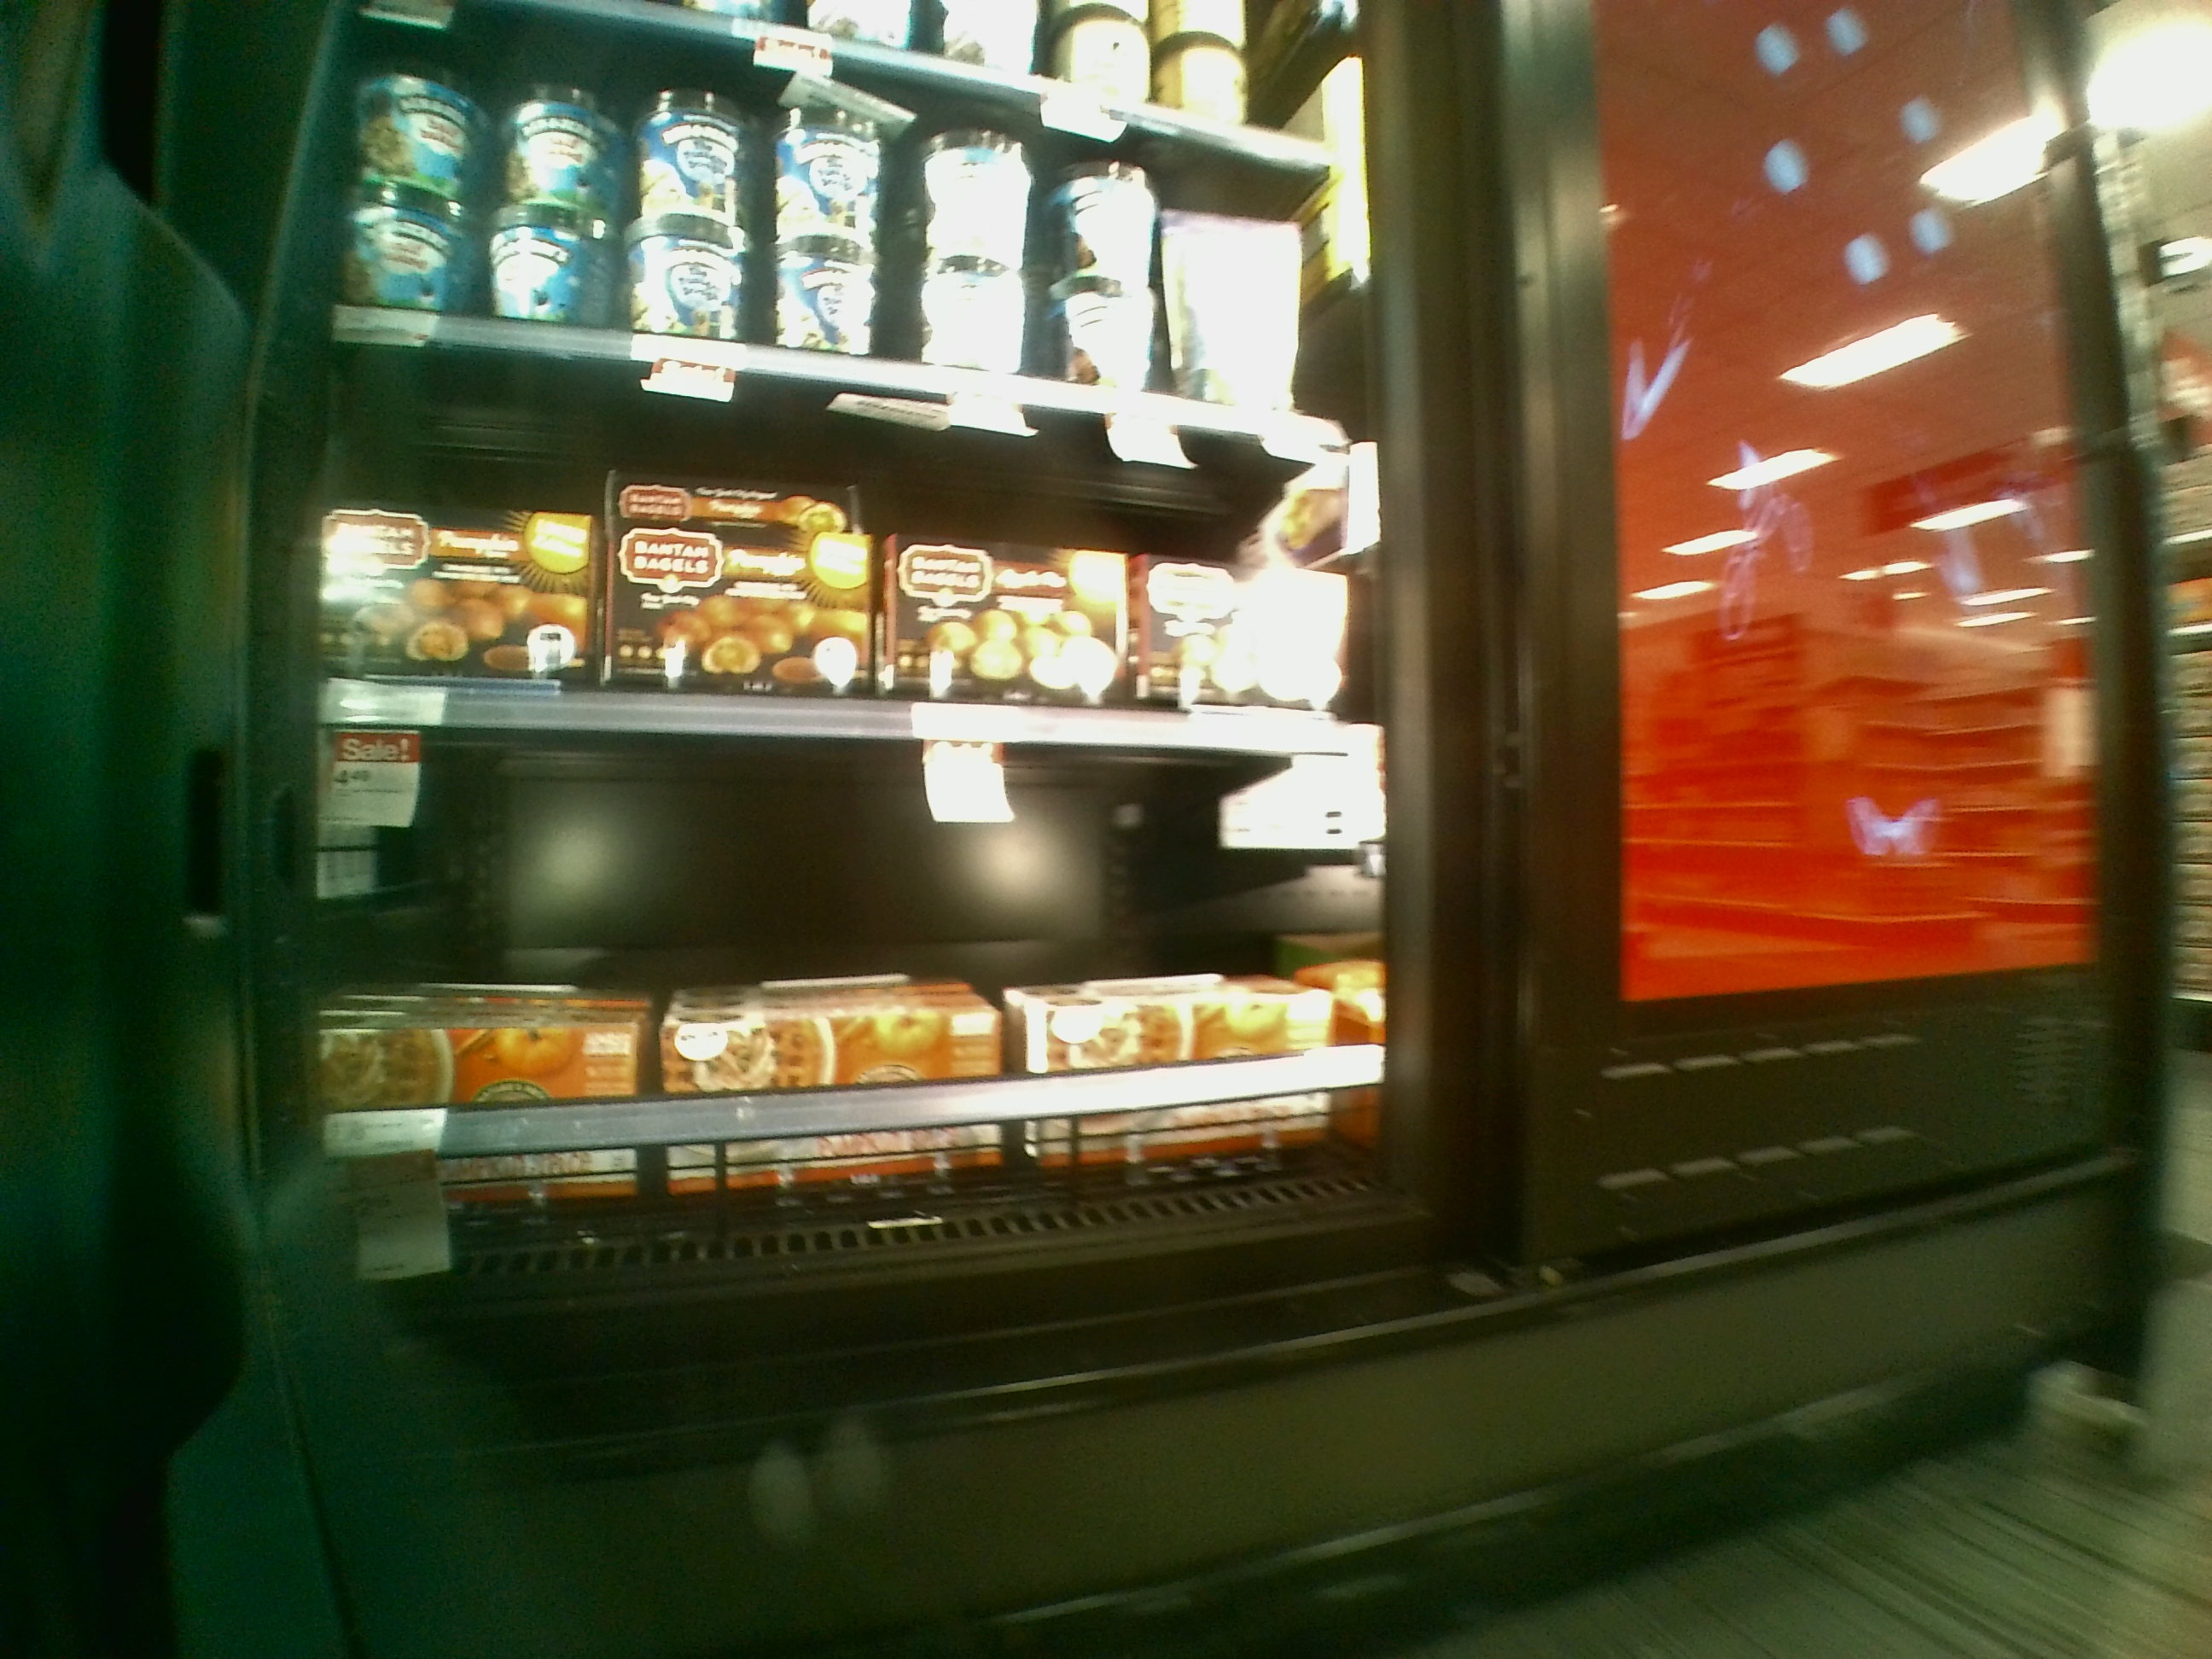shelf: (291, 678, 1413, 1260), (298, 326, 1388, 753)
